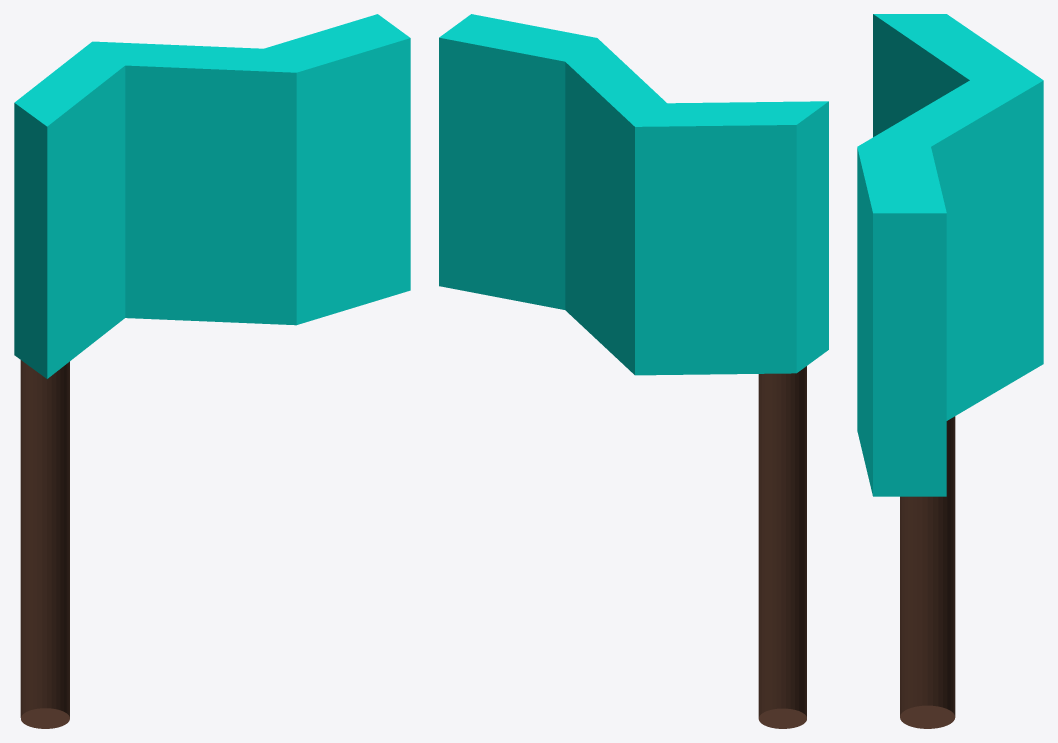
The model's file is checkpointFlag.fbx.
3 renders of one model, left to right at view 1: azimuth 30°, elevation 25°; view 2: azimuth 150°, elevation 25°; view 3: azimuth 270°, elevation 25°, orthographic. The views are drawn at different scales.
Visible parts, largest first — view 1: Cylinder; view 2: Cylinder; view 3: Cylinder.
Boxes of the visible parts, left/top/right/bottom form: Cylinder: left=14, top=14, right=410, bottom=728; Cylinder: left=439, top=14, right=828, bottom=728; Cylinder: left=857, top=14, right=1043, bottom=728.
Size of the model in its own units: 301 by 487 by 119.
